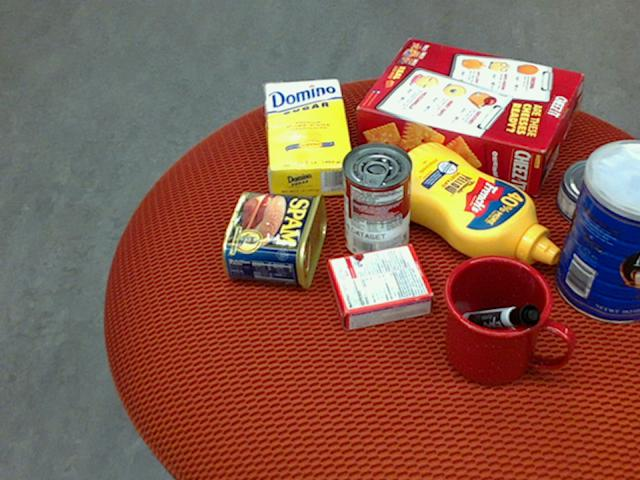cracker_box: (356, 37, 581, 193)
gelatin_box: (324, 246, 432, 331)
large_marker: (460, 302, 540, 331)
master_chef_can: (554, 139, 639, 323)
mug: (442, 254, 571, 385)
mustard_bottle: (379, 142, 559, 265)
potted_meat_can: (222, 191, 326, 288)
sugar_box: (262, 77, 355, 201)
tomato_soup_can: (340, 140, 411, 261)
tuna_fish_can: (555, 156, 639, 231)
